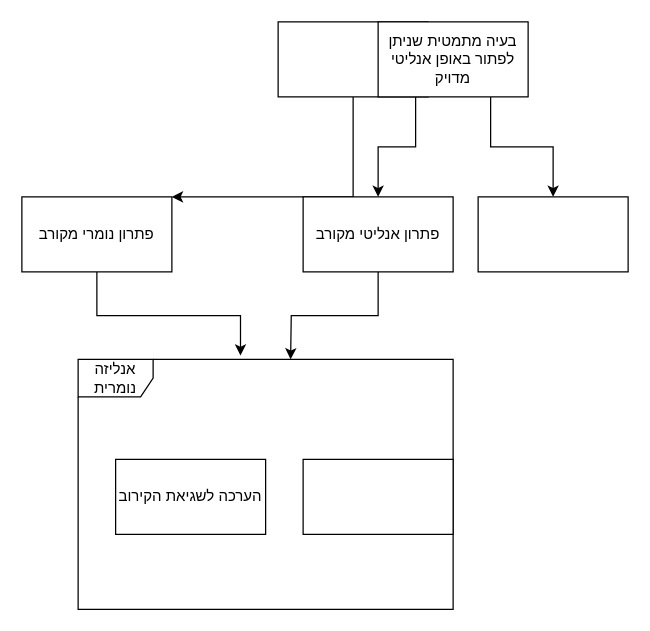
Some shapes in this 650 by 631 pixel diagram are drawn without their labels. The centre of each missing label's shape, as x and y in pixels:
"ידוע בעיה מתמטית שלא ידוע דרך אנליטית לפתרונה" belongs at pixel 352 59.
"יישום שיטות נומריות במחשב לקבלת דיוק רצוי" belongs at pixel 377 496.
"פתרון אנליטי מדוייק" belongs at pixel 552 234.
